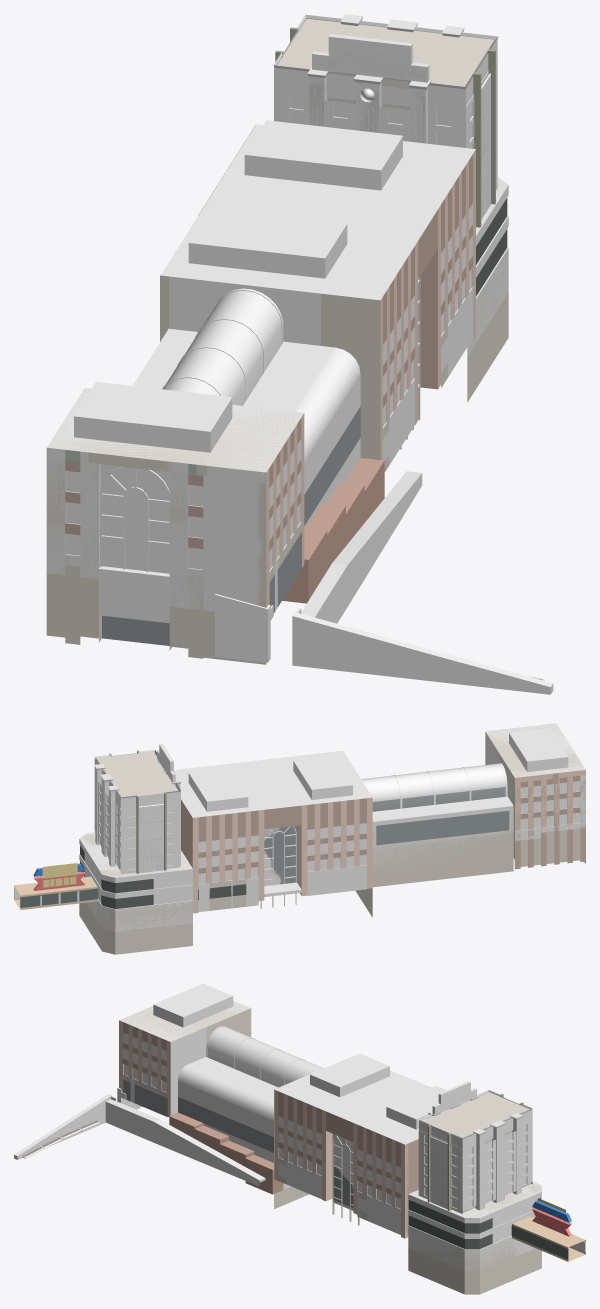
Rendered from mall_cinema.dae.
3 renders of one model, top to bottom at view 1: azimuth 30°, elevation 25°; view 2: azimuth 150°, elevation 25°; view 3: azimuth 270°, elevation 25°, orthographic. The views are drawn at different scales.
Visible parts, largest first — view 1: mall_cinema_a1500, mall_cinema_a750; view 2: mall_cinema_a1500, mall_cinema_a750; view 3: mall_cinema_a1500, mall_cinema_a750.
Part boxes in pixels (bbox=[...]): mall_cinema_a1500: bbox=[46, 14, 553, 694]; mall_cinema_a750: bbox=[46, 18, 508, 664]; mall_cinema_a1500: bbox=[14, 723, 585, 931]; mall_cinema_a750: bbox=[20, 723, 585, 954]; mall_cinema_a1500: bbox=[14, 983, 585, 1271]; mall_cinema_a750: bbox=[122, 1002, 568, 1294].
Size of the model in its own units: 115 by 149 by 48.85.
